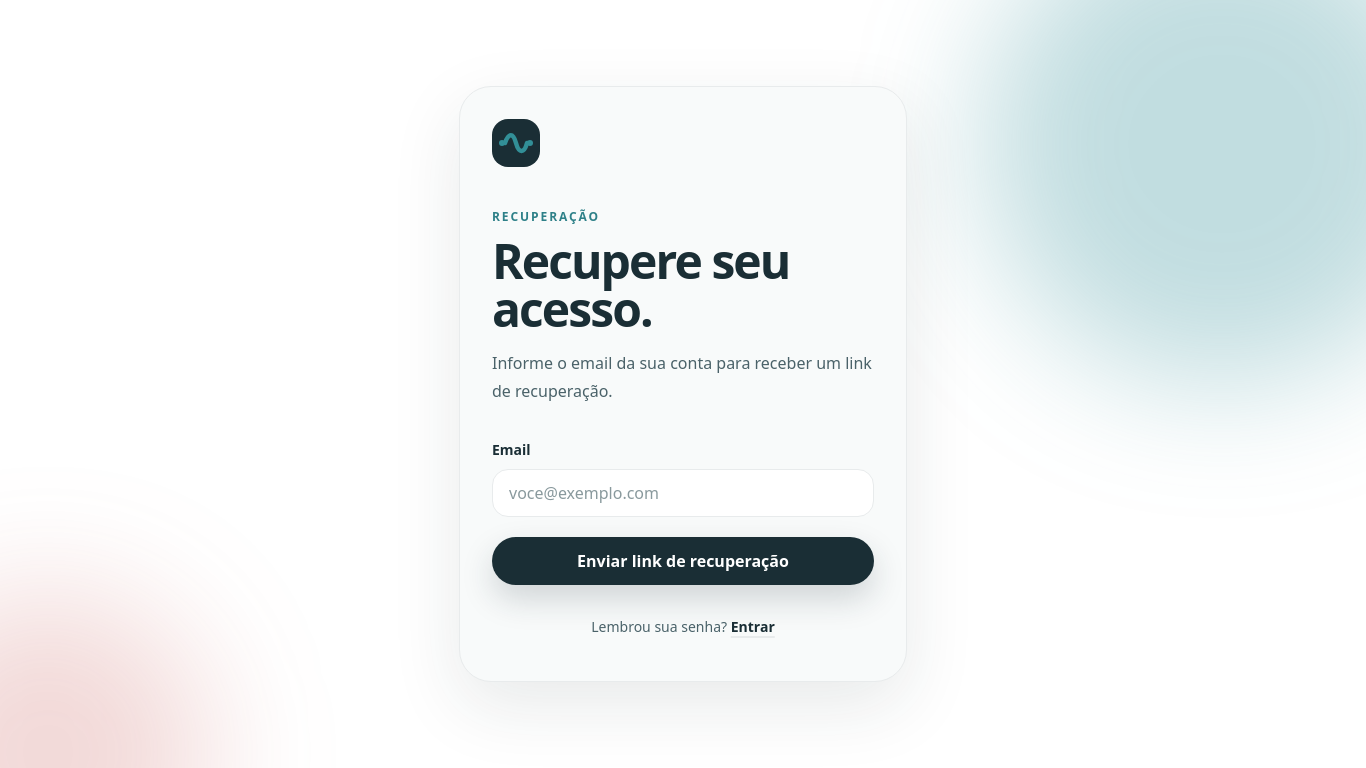
Test: ForgotPasswordPage › should hide unknown provider failures
In the field labelled "Email": (683, 493) x1=492 y1=469 x2=874 y2=517, type " user@example.com "
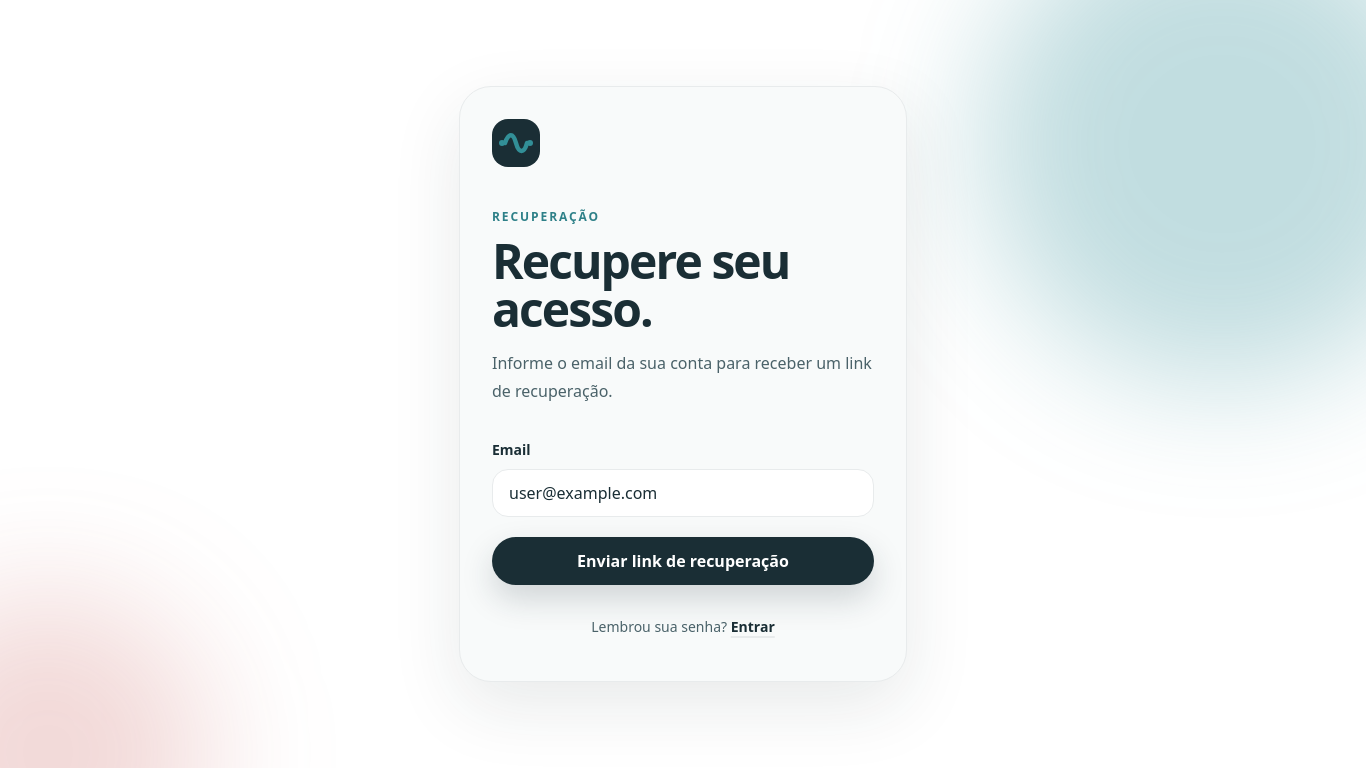
Click the button "Enviar link de recuperação": (683, 561) x1=492 y1=537 x2=874 y2=585
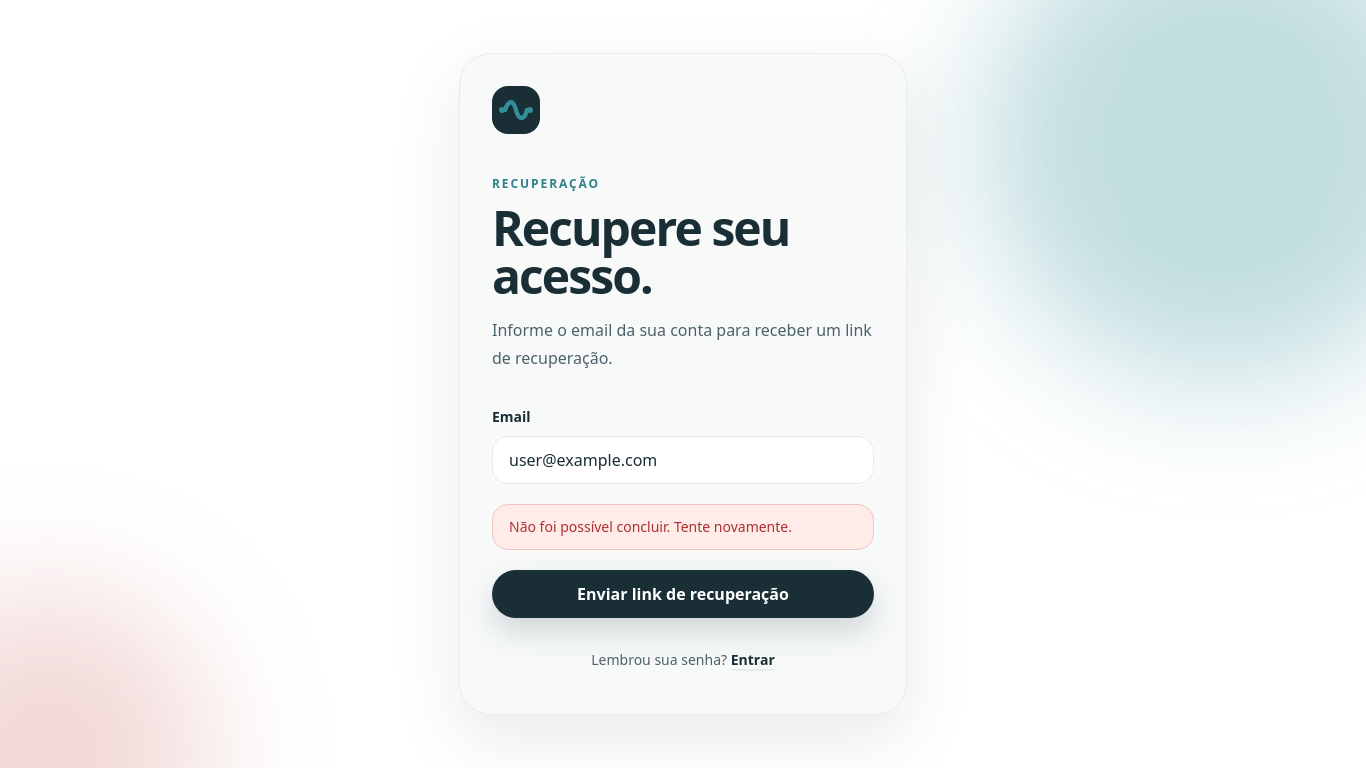
expect the message reads "Não foi possível concluir. Tente novamente.": met, box x1=509 y1=517 x2=792 y2=536
